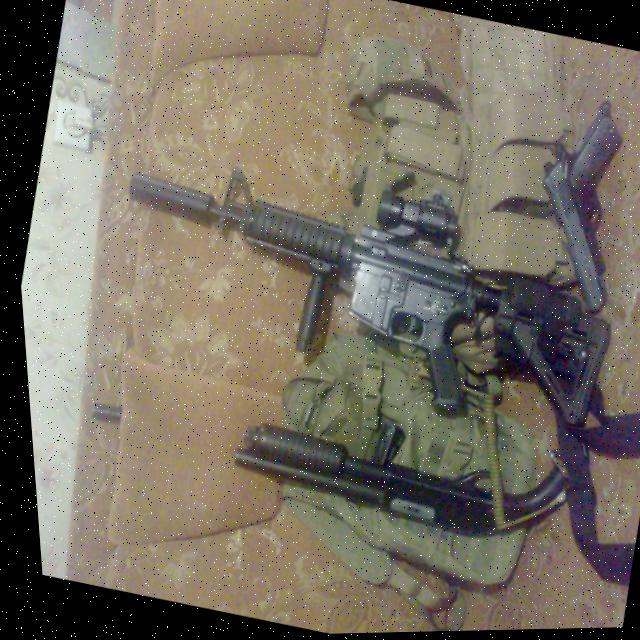firearm: (82, 127, 633, 466), (212, 390, 580, 572)
pistol: (502, 89, 640, 323)
